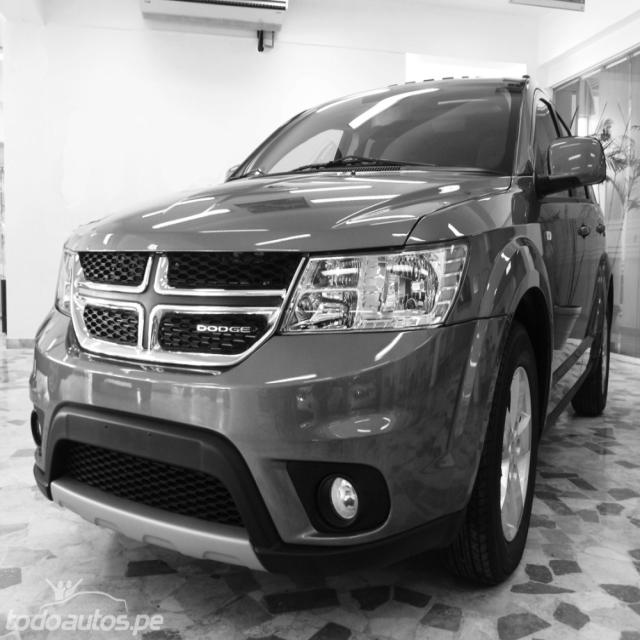car: (29, 74, 614, 586)
